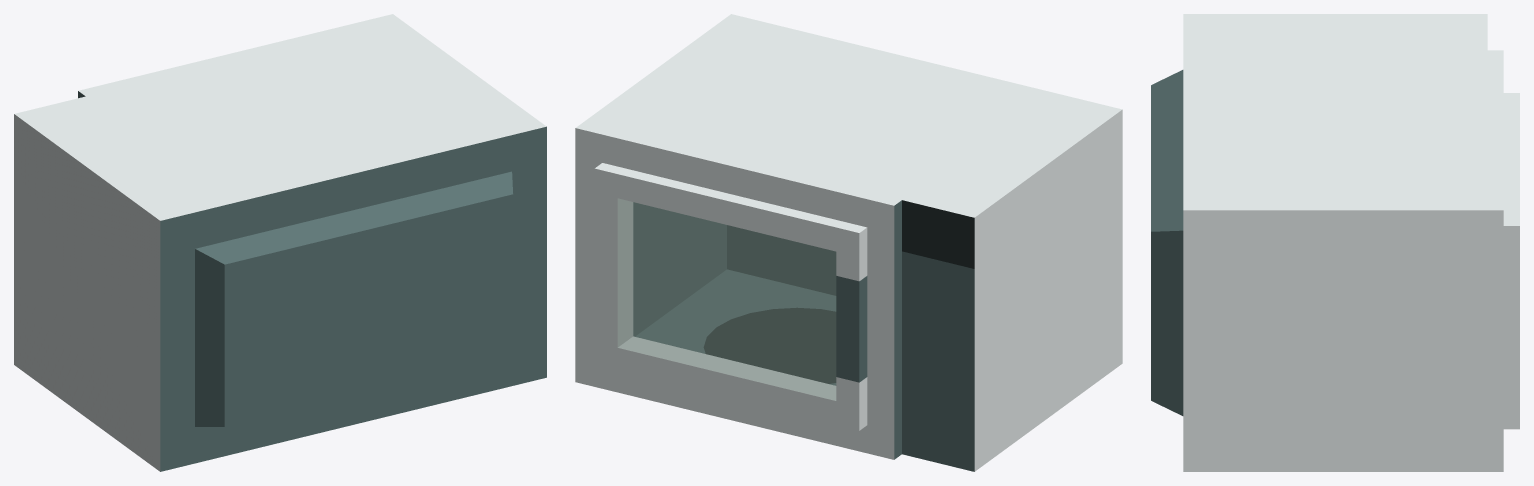
The model's file is kitchenMicrowave.fbx.
3 renders of one model, left to right at view 1: azimuth 30°, elevation 25°; view 2: azimuth 150°, elevation 25°; view 3: azimuth 270°, elevation 25°, orthographic. The views are drawn at different scales.
Visible parts, largest first — view 1: kitchenMicrowave; view 2: kitchenMicrowave, Group 333; view 3: kitchenMicrowave, Group 333.
Part boxes in pixels (x1,y1,x2,y2): kitchenMicrowave: [14, 14, 546, 471]; kitchenMicrowave: [575, 14, 1122, 471]; Group 333: [594, 163, 867, 430]; kitchenMicrowave: [1151, 14, 1503, 471]; Group 333: [1503, 93, 1519, 429].
Size of the model in its own units: 2.9 by 1.8 by 2.3.
